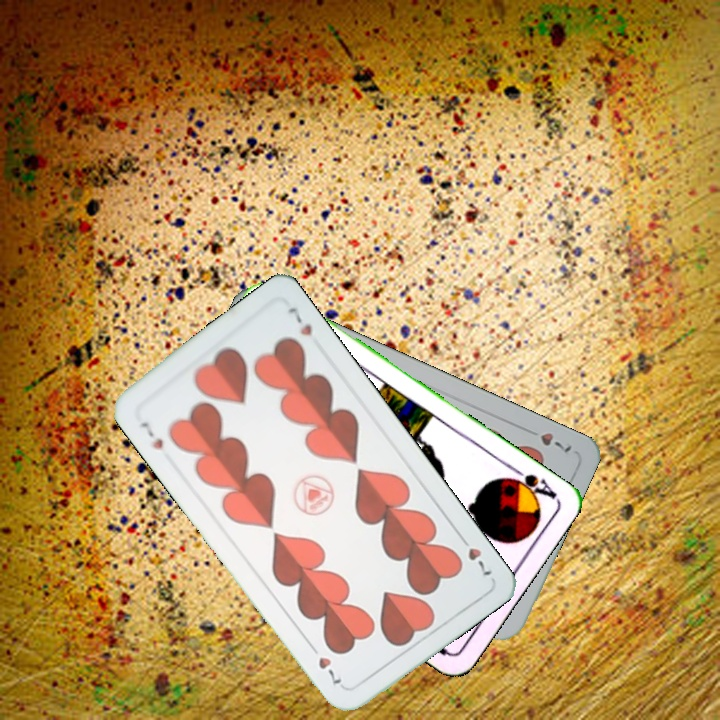H7: (454, 530, 495, 579), (536, 428, 575, 455), (136, 418, 166, 453)
SA: (500, 462, 560, 503)
